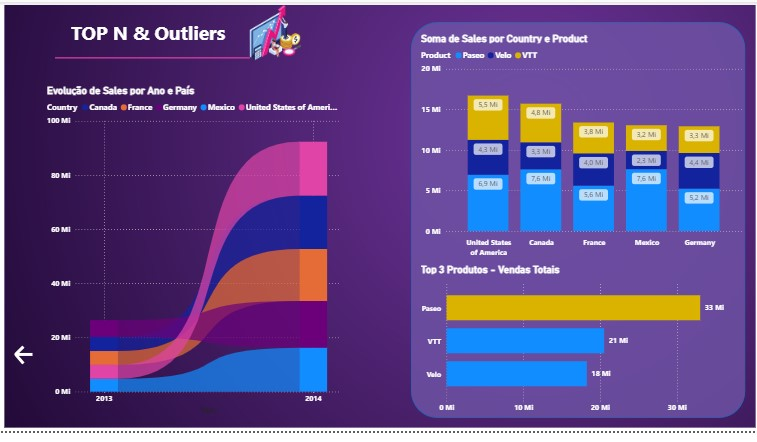

Layout of this report page (visuals, bound fields, positions):
{"tool":"powerbi","page":{"name":"TOPN & Outliers","canvas":[1280,720],"ordinal":3},"visuals":[{"type":"image","title":"fundo_purple","box":[0,0,1279.9,720],"z":0},{"type":"shape","title":"Forma/linha","box":[93.6,72,326.9,43.2],"z":1000},{"type":"image","box":[406.1,0,116.2,104.2],"z":3000},{"type":"shape","box":[692.6,33.1,561.6,665.3],"z":8000},{"type":"textbox","box":[116.6,23,280.8,56.2],"z":8001},{"type":"ribbonChart","title":"Evolução de Sales por Ano e País","fields":{"Category":["financials.Year"],"Series":["financials.Country"],"Y":["Sum(financials. Sales)"]},"box":[76.3,138.2,504,560.2],"z":8002},{"type":"lineStackedColumnComboChart","fields":{"Category":["financials.Country"],"Series":["financials.Product"],"Y":["Sum(financials. Sales)"]},"box":[704.3,51.1,549.3,385.6],"z":8003},{"type":"clusteredBarChart","title":"Top 3 Produtos - Vendas Totais","fields":{"Category":["financials.Product"],"Y":["Sum(financials. Sales)"]},"box":[704.3,438.4,537,260.6],"z":8004},{"type":"actionButton","box":[21.1,572.2,54.6,40.5],"z":8005}]}

Visuals, with their boxes on the page's 1280x720 design canvas (x1, y1, x2, y2). These are canvas units, not pixel positions in the 757x442 screenshot, which may show the page scaled, cropped or inside an application window:
"fundo_purple" image: box=[0, 0, 1280, 720]
"Forma/linha" shape: box=[94, 72, 420, 115]
image: box=[406, 0, 522, 104]
shape: box=[693, 33, 1254, 698]
textbox: box=[117, 23, 397, 79]
"Evolução de Sales por Ano e País" ribbonChart: box=[76, 138, 580, 698]
lineStackedColumnComboChart - financials.Country x financials.Product: box=[704, 51, 1254, 437]
"Top 3 Produtos - Vendas Totais" clusteredBarChart: box=[704, 438, 1241, 699]
actionButton: box=[21, 572, 76, 613]
